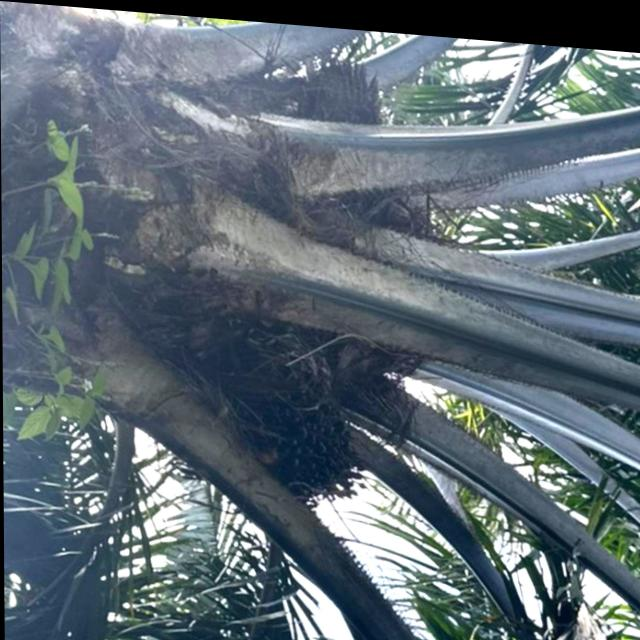unripe: (223, 362, 361, 510)
